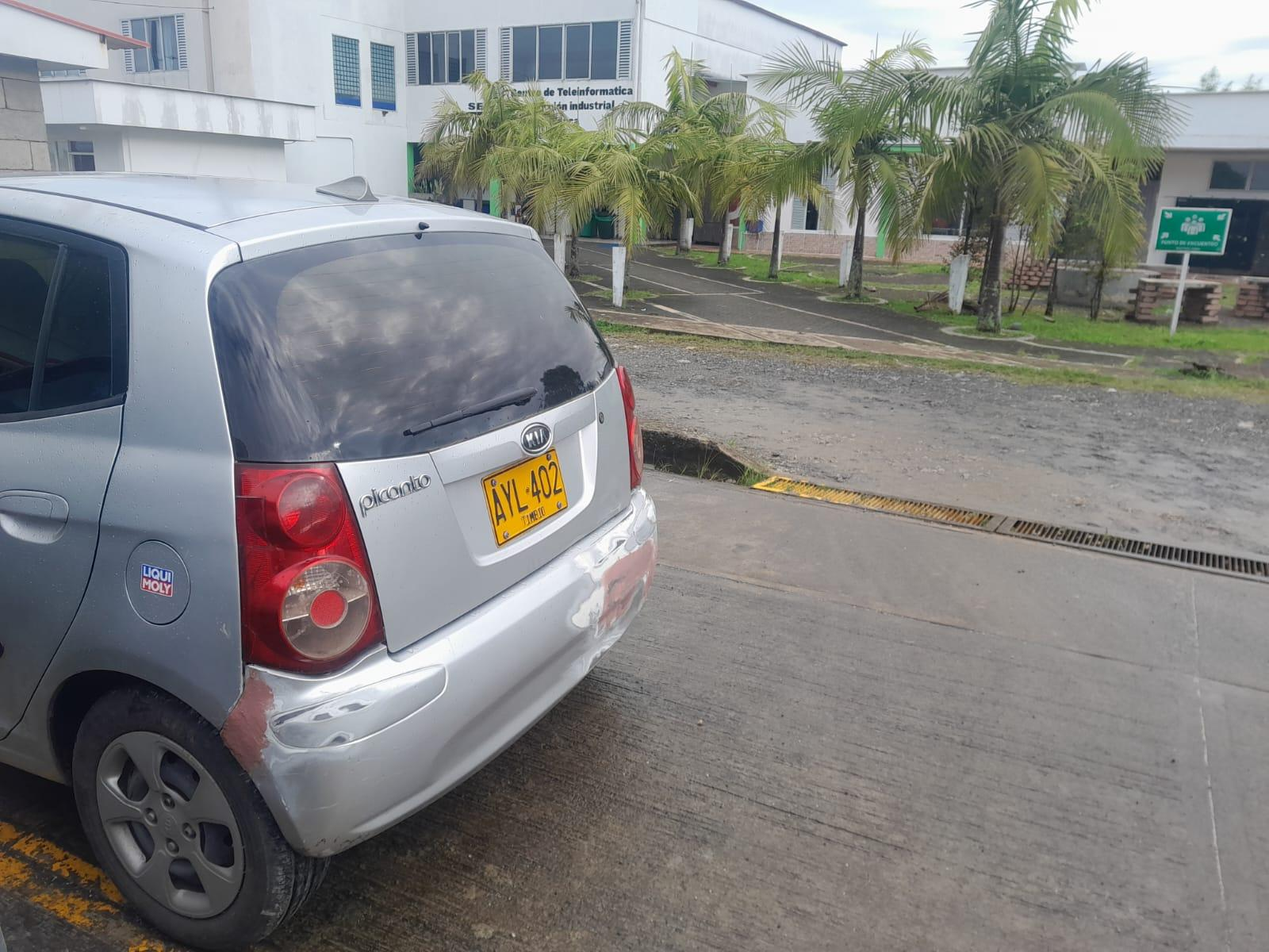placa: (483, 449, 568, 545)
